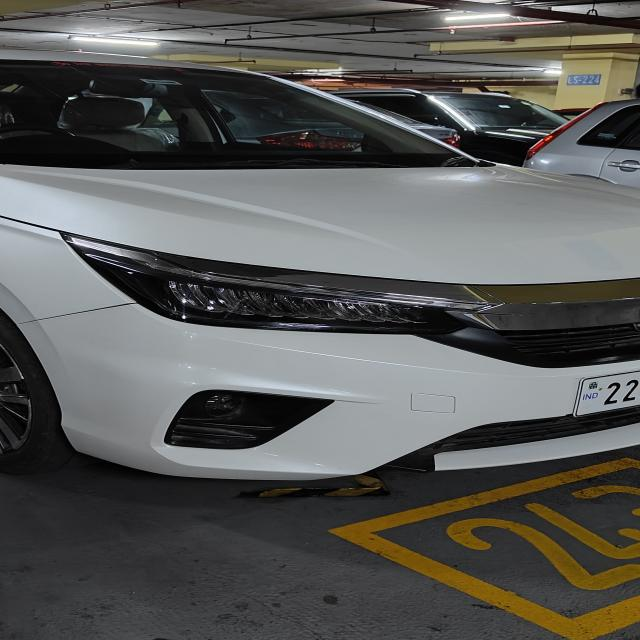scratch: (325, 396, 393, 410)
